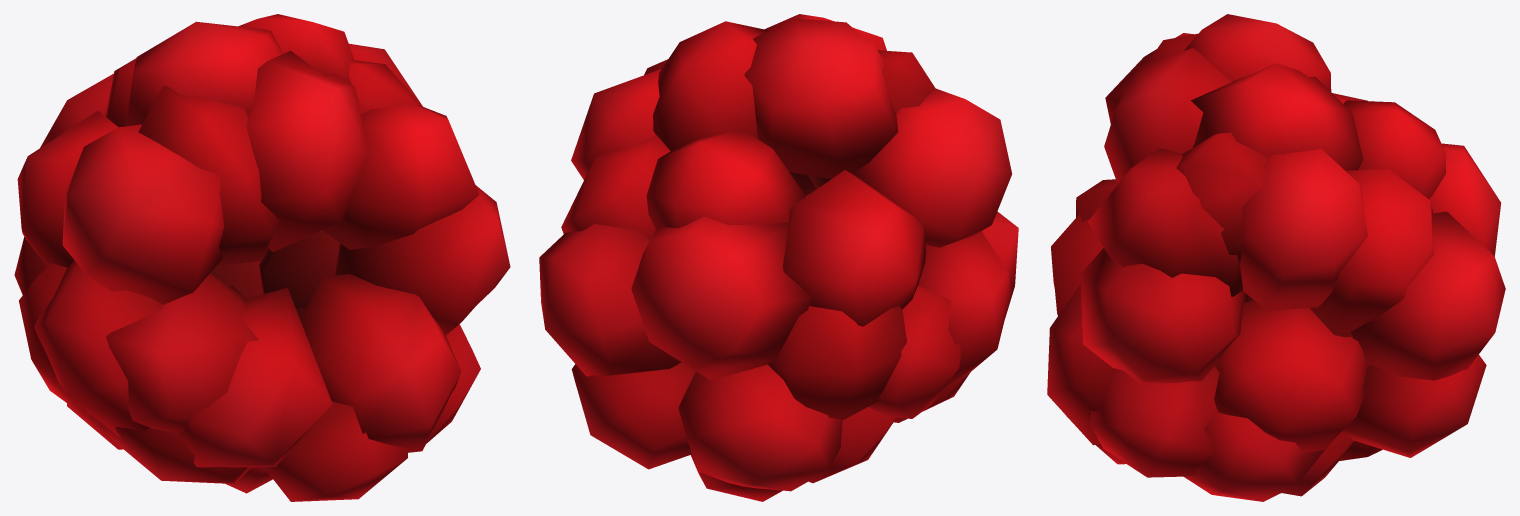
Rendered from Raspberry_Regular.fbx.
3 renders of one model, left to right at view 1: azimuth 30°, elevation 25°; view 2: azimuth 150°, elevation 25°; view 3: azimuth 270°, elevation 25°, orthographic. The views are drawn at different scales.
Visible parts, largest first — view 1: Raspberry_Regular; view 2: Raspberry_Regular; view 3: Raspberry_Regular.
Part boxes in pixels (<box>): Raspberry_Regular: <box>14,14,510,501</box>; Raspberry_Regular: <box>539,14,1018,501</box>; Raspberry_Regular: <box>1047,14,1505,501</box>.
Size of the model in its own units: 9.93 by 10.85 by 10.19.
